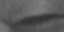LeftEyeFatigue: (5, 9, 63, 31)
